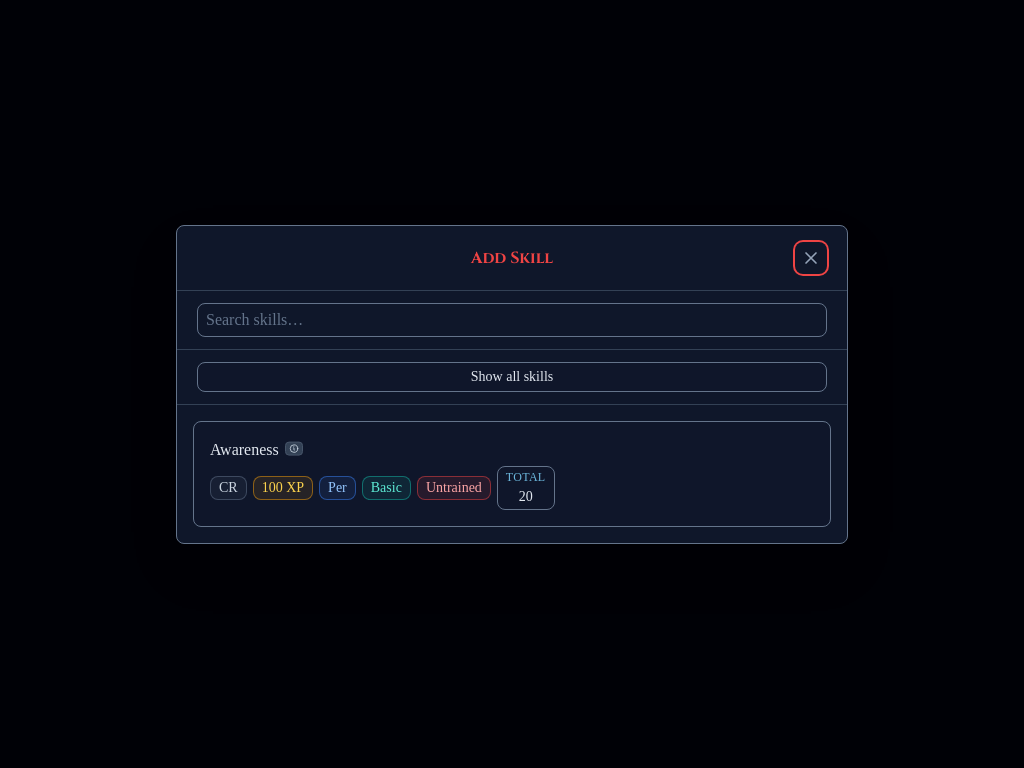
Test case: AddSkillModal with a career-restricted list › returns to the overflow screen, not the main list, when Back is pressed from manual cost entry reached that way
Click the button "Show all skills": (512, 376) [197,362,827,392]
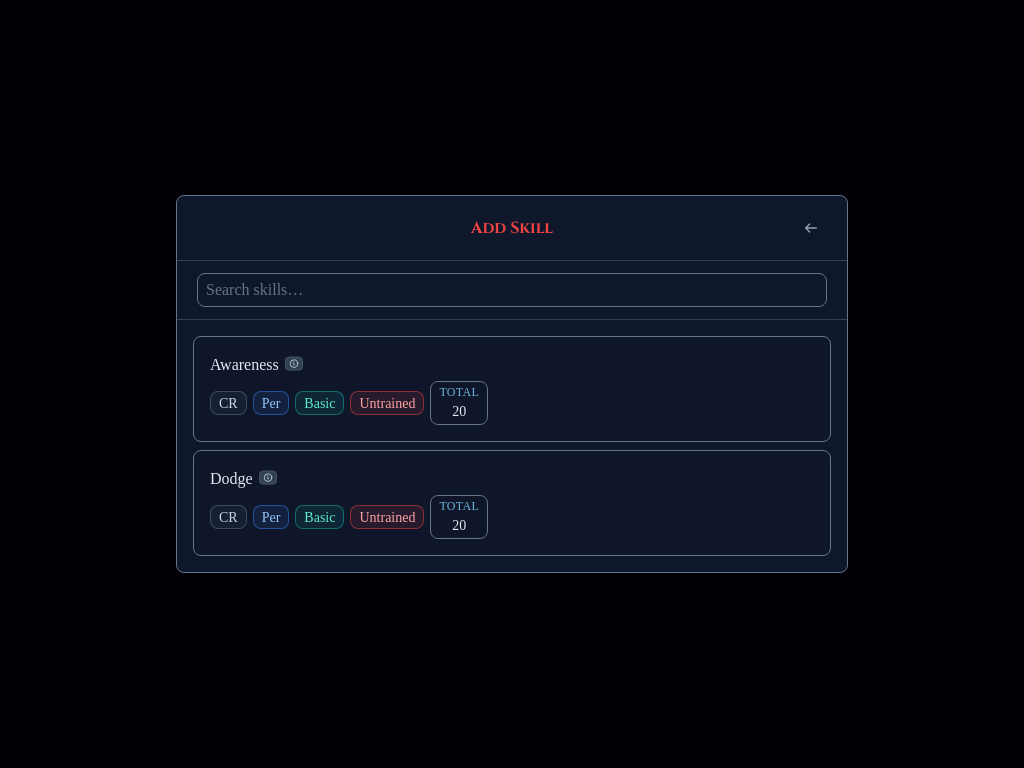
Click the button with aria-label "Select Dodge": (231, 478) [193,450,831,556]
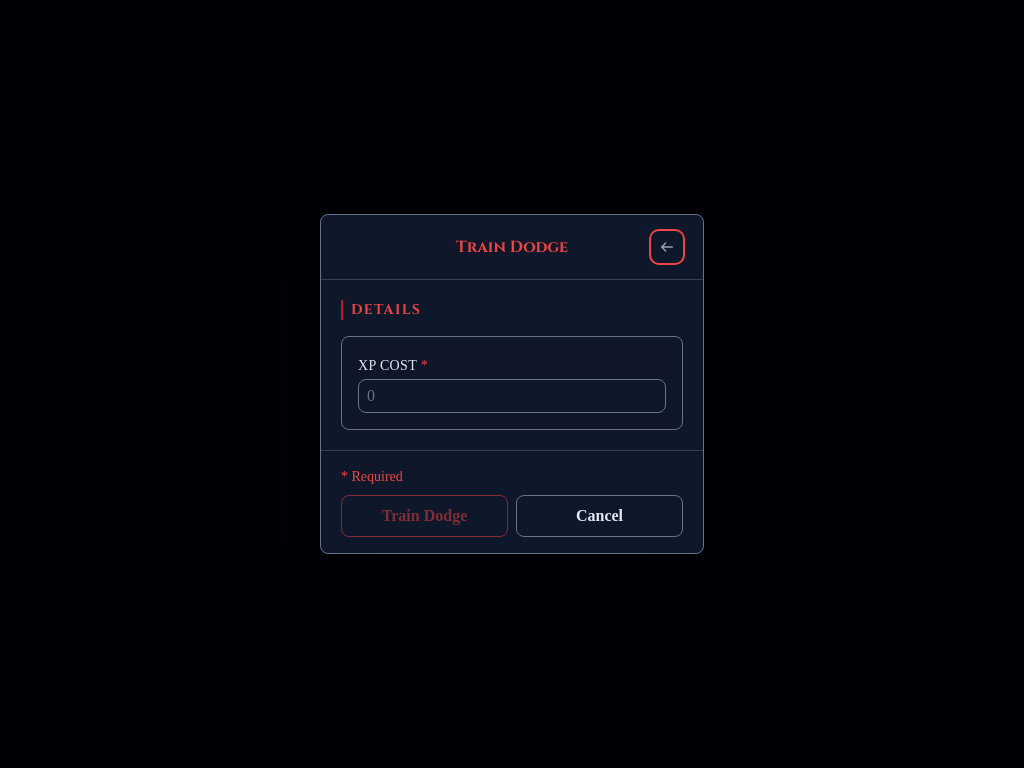
Click the button named "Back": (667, 247) [651,231,683,263]
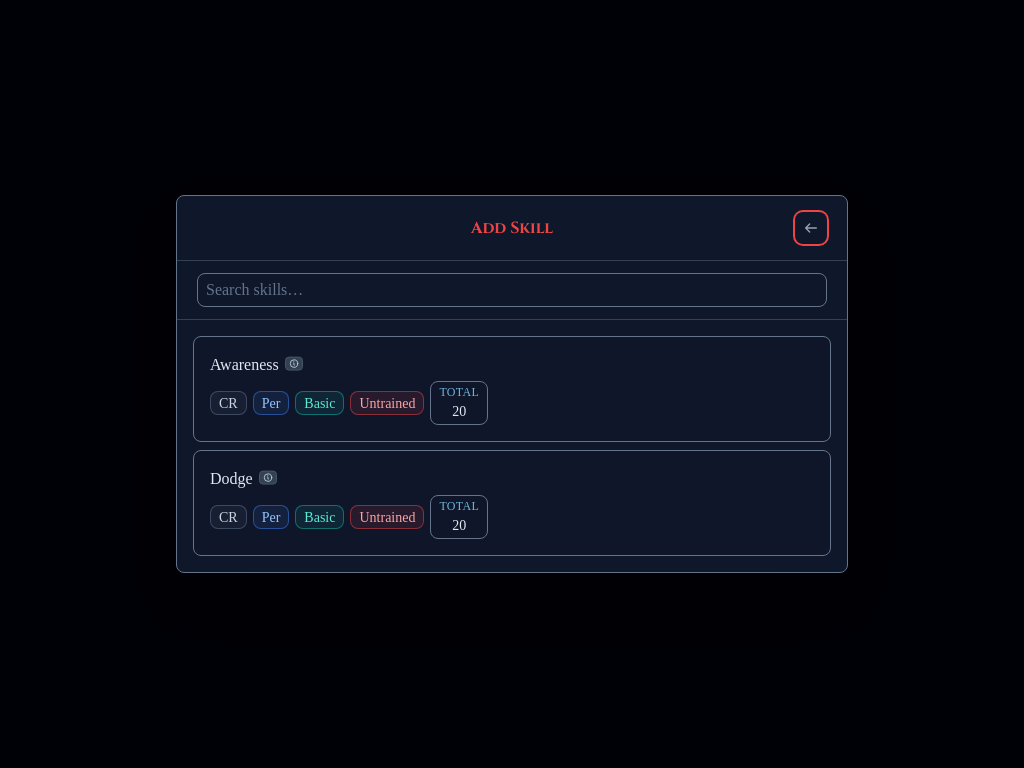
Expected: the button with aria-label "Select Dodge" is shown, [193,450,831,556]
